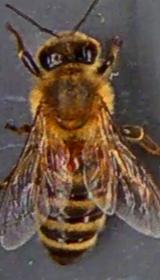varroa_mite: (58, 151, 90, 176)
